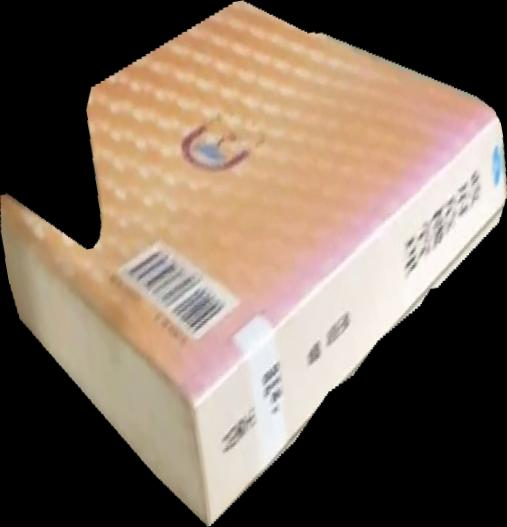flat: (1, 1, 507, 527)
